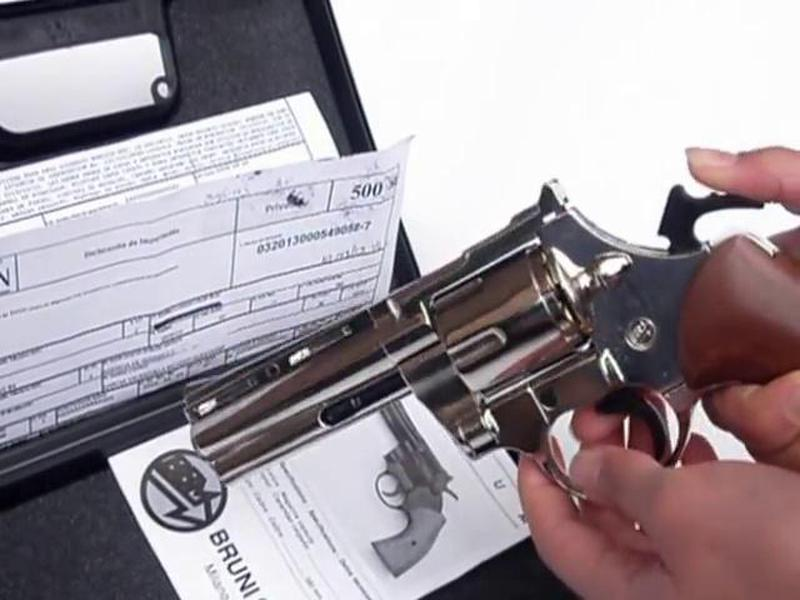Revolver: (159, 168, 741, 521)
